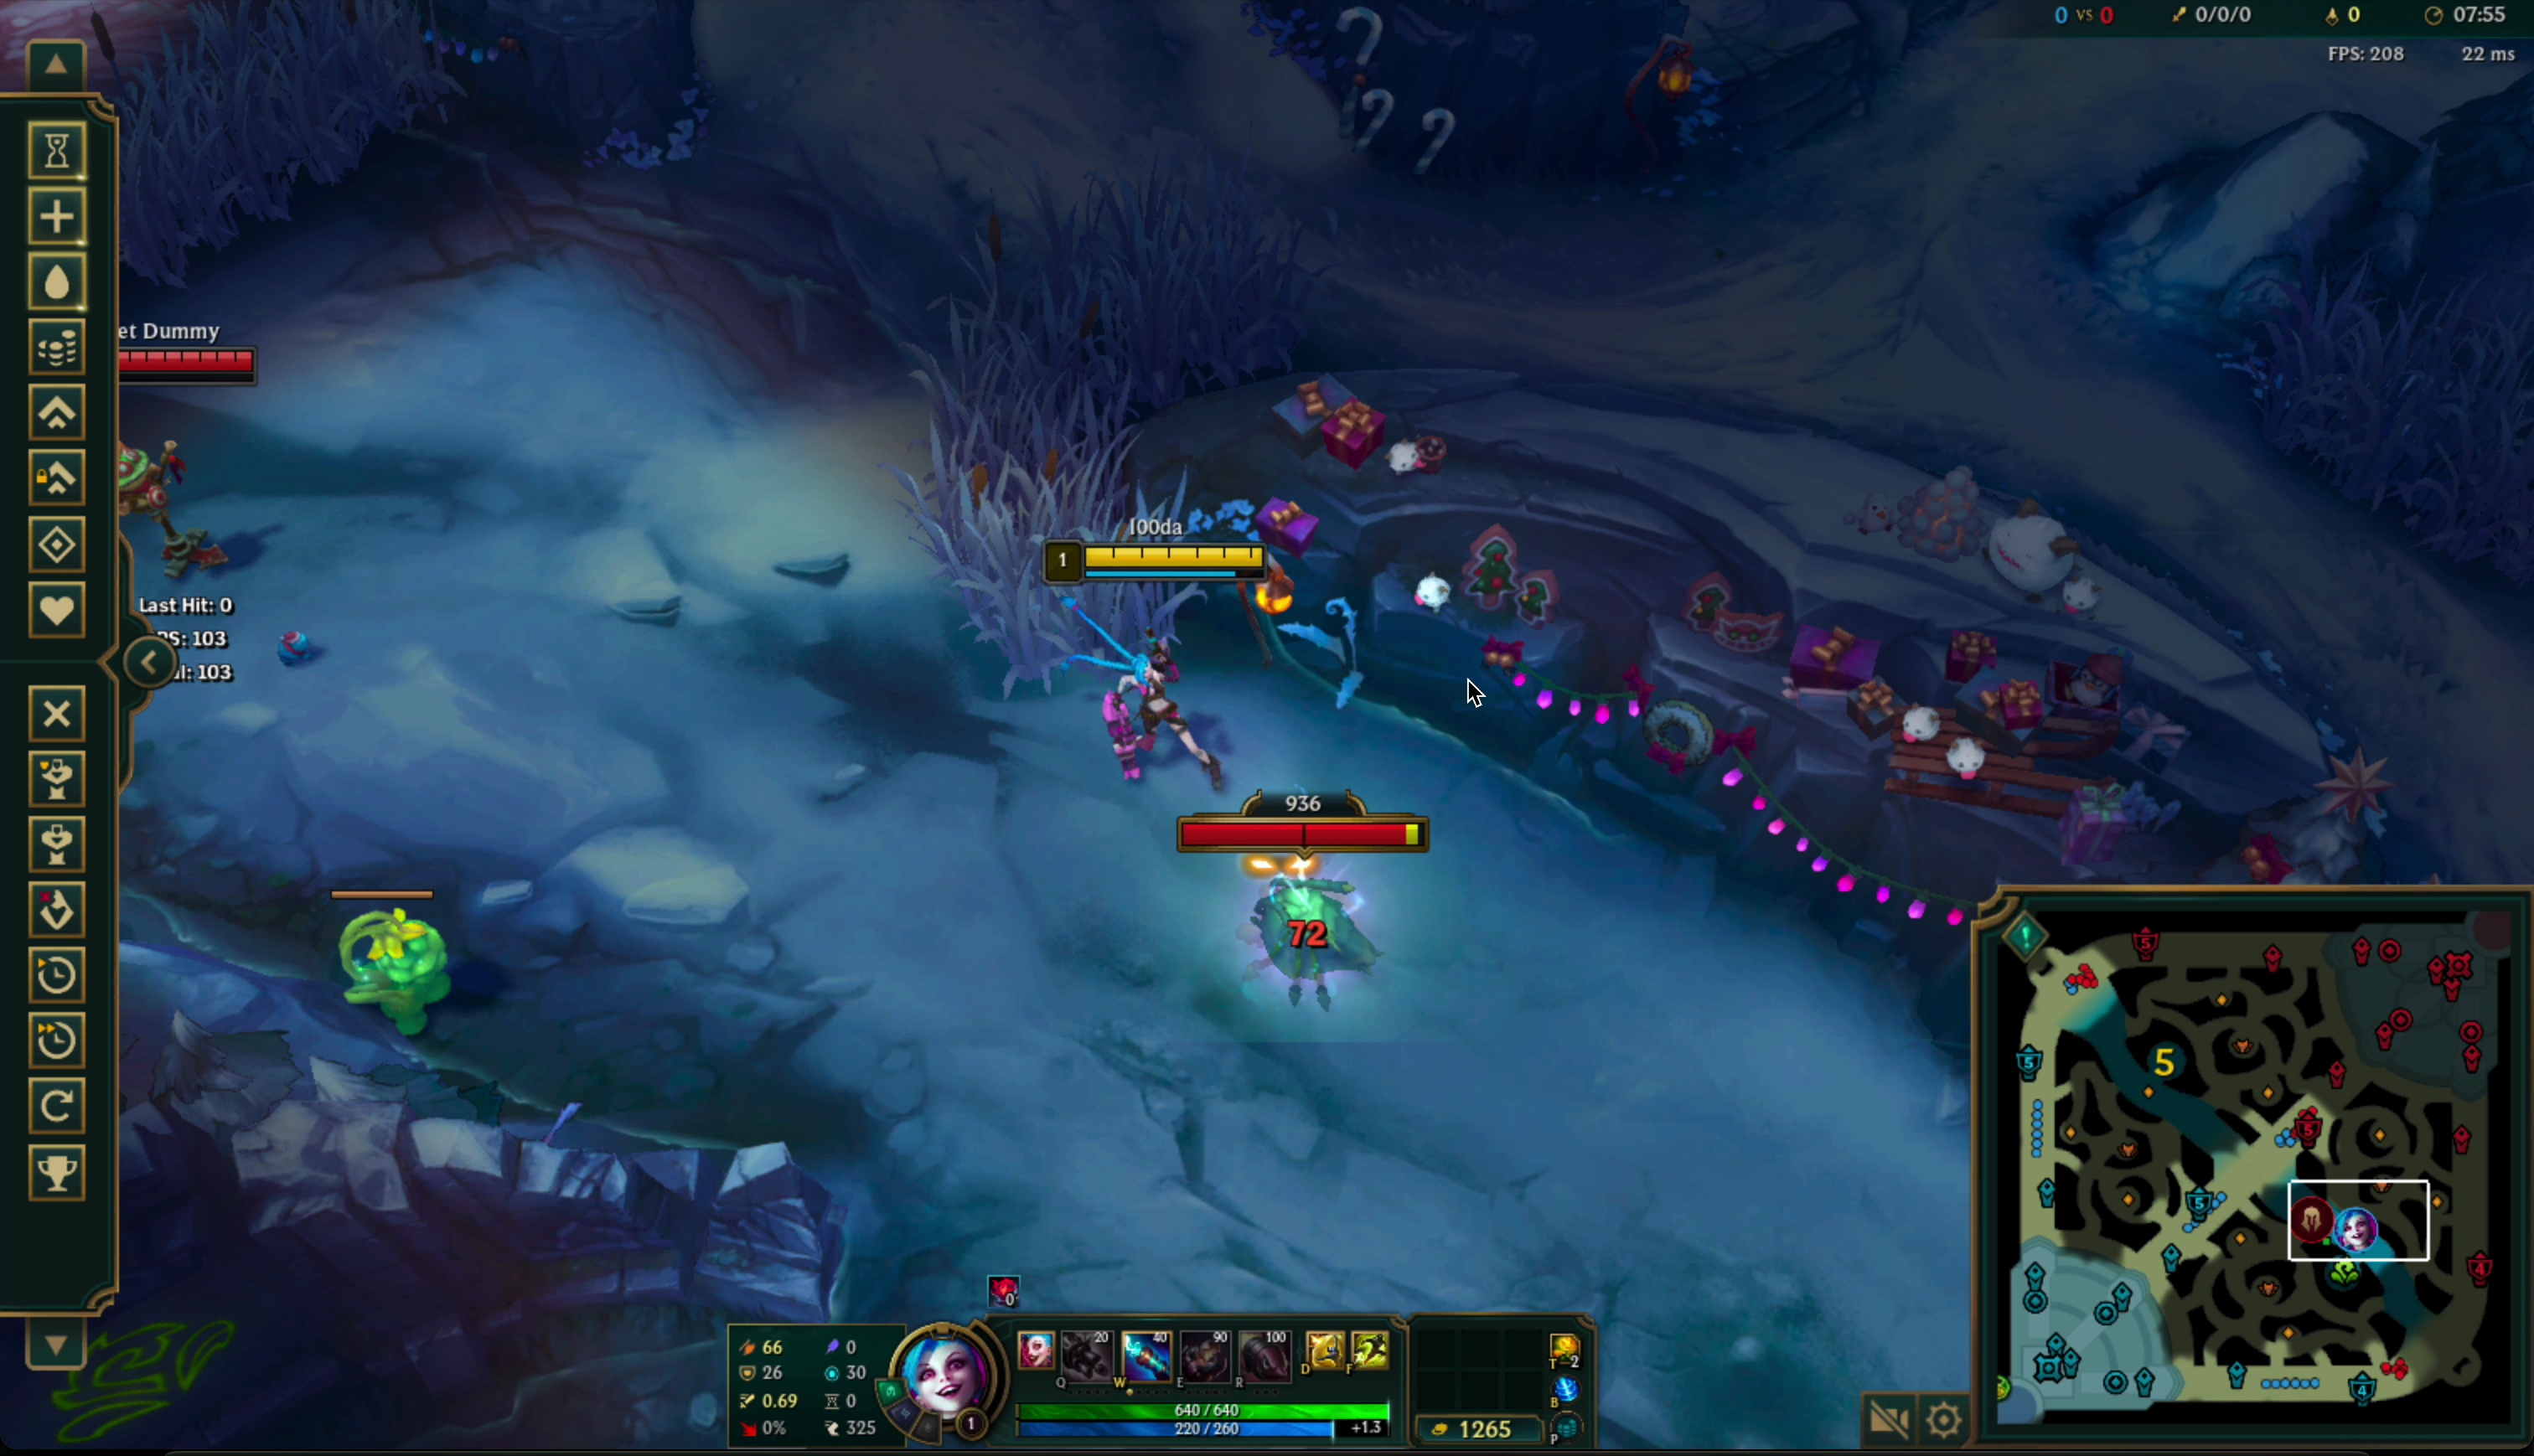JINX_W_IMPACT: (1130, 748, 1519, 1066)
